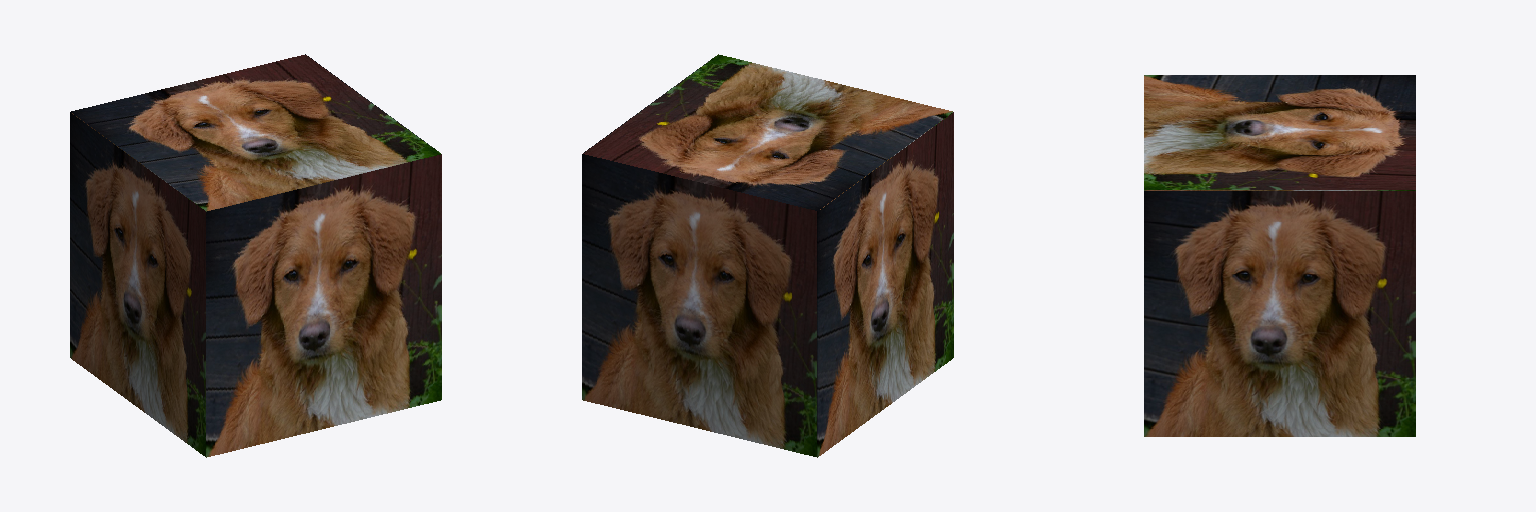
3 renders of one model, left to right at view 1: azimuth 30°, elevation 25°; view 2: azimuth 150°, elevation 25°; view 3: azimuth 270°, elevation 25°, orthographic.
Size of the model in its own units: 1.5 by 1.5 by 1.5.
Materials: 1 (1 with a texture image).